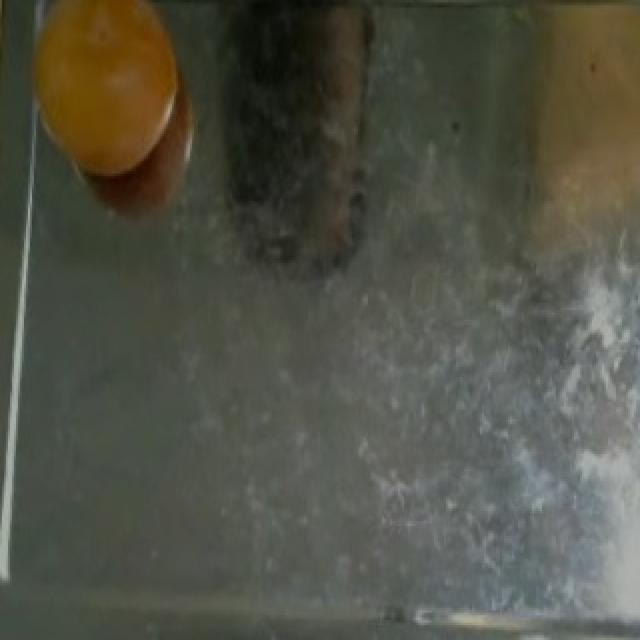Fruit: (16, 0, 192, 191)
